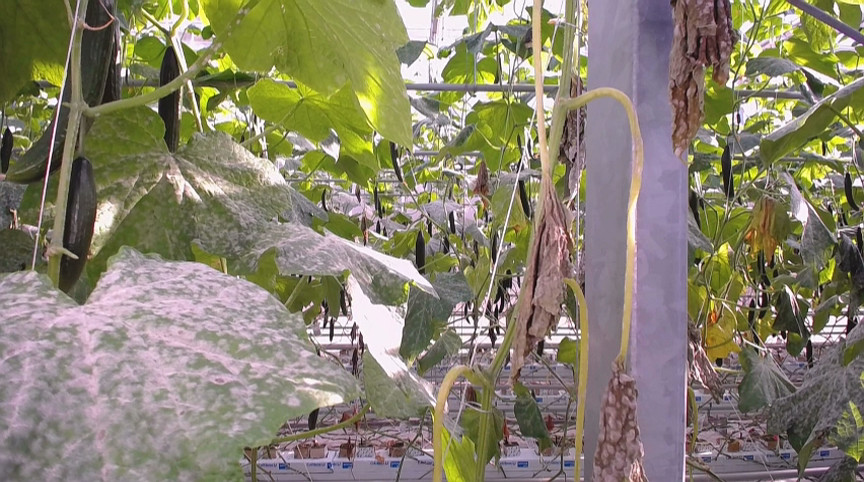cucumber: (8, 2, 116, 184), (57, 155, 97, 290), (158, 47, 181, 154), (719, 146, 736, 199), (413, 231, 427, 275)
